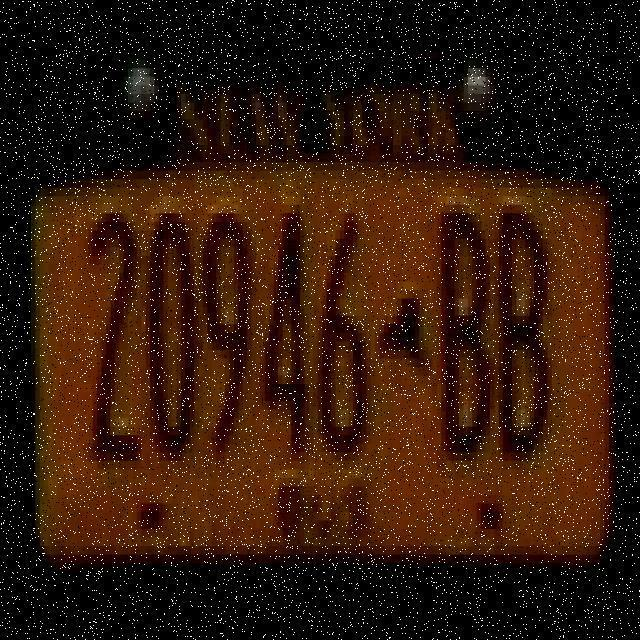LicensePlate: (11, 18, 632, 608)
